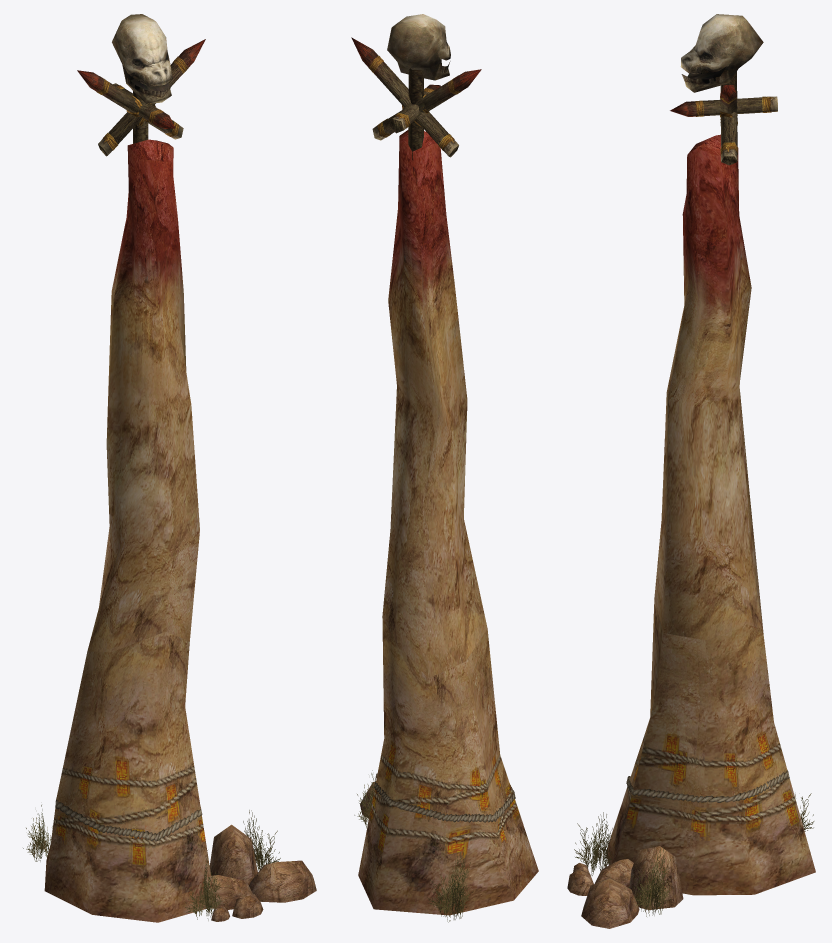
File: w_cd_ravi_gorge01_01.glb
3 renders of one model, left to right at view 1: azimuth 30°, elevation 25°; view 2: azimuth 150°, elevation 25°; view 3: azimuth 270°, elevation 25°, orthographic.
Parts seen in each view (by area): view 1: W_CD_ravi_gorge01_03, W_CD_ravi_gorge01_04, W_CD_ravi_gorge01_01, W_CD_ravi_gorge01_05, W_CD_ravi_gorge01_07, W_CD_ravi_gorge01_06, W_CD_ravi_gorge01_02; view 2: W_CD_ravi_gorge01_03, W_CD_ravi_gorge01_04, W_CD_ravi_gorge01_01, W_CD_ravi_gorge01_07, W_CD_ravi_gorge01_06, W_CD_ravi_gorge01_02; view 3: W_CD_ravi_gorge01_03, W_CD_ravi_gorge01_04, W_CD_ravi_gorge01_01, W_CD_ravi_gorge01_05, W_CD_ravi_gorge01_07, W_CD_ravi_gorge01_06, W_CD_ravi_gorge01_02.
Part boxes in pixels (x1,y1,x2,y2): W_CD_ravi_gorge01_03: (87,139,199,652); W_CD_ravi_gorge01_04: (44,631,212,922); W_CD_ravi_gorge01_01: (77,14,205,156); W_CD_ravi_gorge01_05: (208,824,316,921); W_CD_ravi_gorge01_07: (23,805,280,920); W_CD_ravi_gorge01_06: (55,798,202,841); W_CD_ravi_gorge01_02: (96,56,188,150); W_CD_ravi_gorge01_03: (382,130,487,678); W_CD_ravi_gorge01_04: (358,616,538,915); W_CD_ravi_gorge01_01: (351,14,481,160); W_CD_ravi_gorge01_07: (354,770,473,922); W_CD_ravi_gorge01_06: (374,773,515,822); W_CD_ravi_gorge01_02: (369,56,461,150); W_CD_ravi_gorge01_03: (654,134,763,639); W_CD_ravi_gorge01_04: (606,600,815,895); W_CD_ravi_gorge01_01: (670,14,777,165); W_CD_ravi_gorge01_05: (567,846,683,928); W_CD_ravi_gorge01_07: (574,793,814,916); W_CD_ravi_gorge01_06: (626,770,789,802); W_CD_ravi_gorge01_02: (695,96,773,155).
Size of the model in its own units: 8.49 by 32.7 by 8.65.
7 materials, 7 textured.
